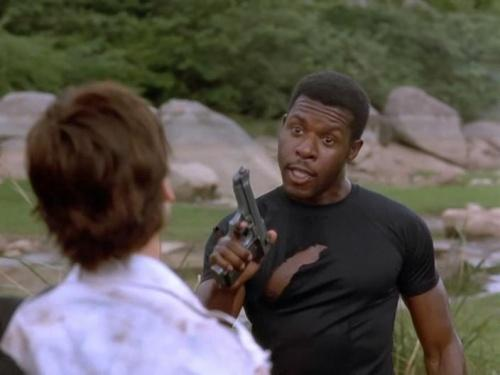Gun: (213, 164, 272, 289)
